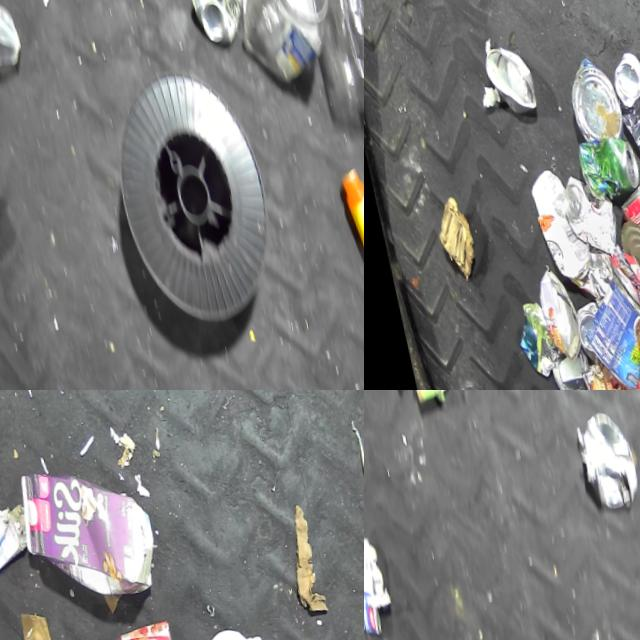can: (566, 268, 640, 390), (565, 408, 639, 517), (552, 170, 618, 262), (557, 54, 621, 144), (527, 266, 578, 365), (601, 46, 640, 174), (571, 132, 639, 203), (475, 38, 535, 117), (607, 172, 640, 302), (177, 0, 251, 51), (610, 216, 640, 340), (571, 356, 640, 390), (565, 300, 600, 364), (539, 347, 587, 390), (104, 618, 179, 640)
non_white_jug: (6, 455, 159, 615)
